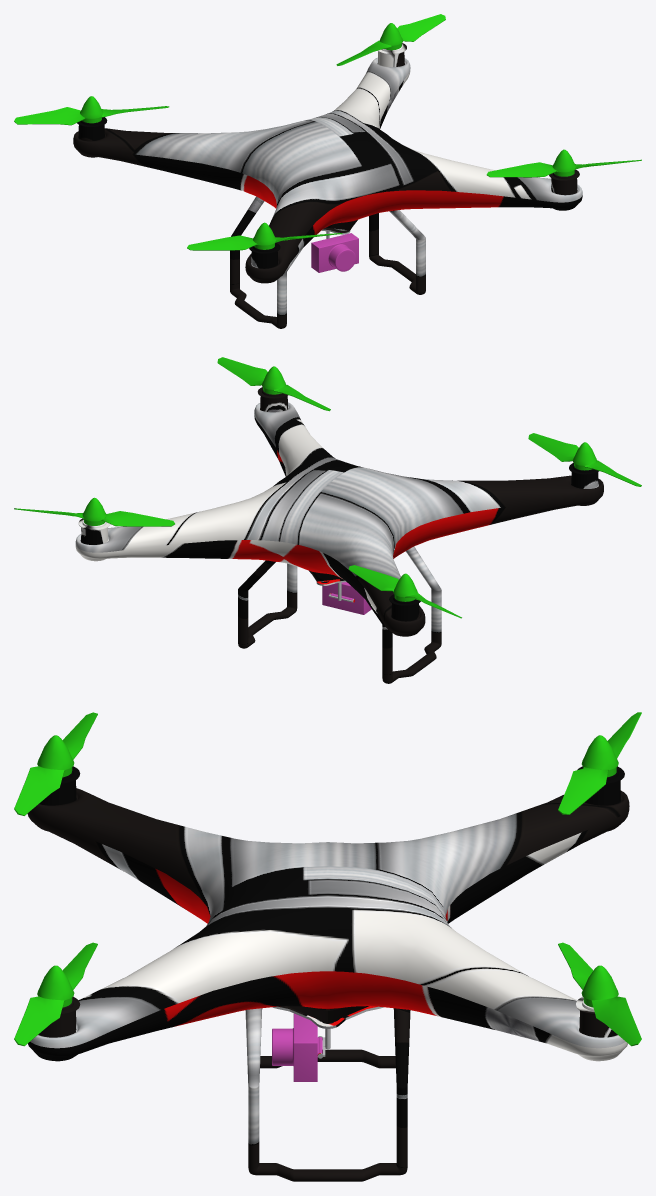
The model's file is phantom_drone.fbx.
3 views of the same model, one above another, from view 1: azimuth 30°, elevation 25°; view 2: azimuth 150°, elevation 25°; view 3: azimuth 270°, elevation 25° (orthographic). The views are drawn at different scales.
Parts seen in each view (by area): view 1: Object011, Object009, Line074, Object008, Object010, Object012; view 2: Object011, Object008, Object012, Object010, Object009, Line074; view 3: Object011, Object008, Object012, Object010, Object009, Line074.
Part boxes in pixels (x1,y1,x2,y2): Object011: (73, 43, 582, 328); Object009: (14, 96, 169, 125); Line074: (311, 233, 358, 272); Object008: (486, 149, 641, 177); Object010: (187, 222, 342, 250); Object012: (336, 14, 445, 65); Object011: (75, 387, 603, 683); Object008: (217, 357, 330, 411); Object012: (14, 497, 174, 526); Object010: (528, 433, 641, 486); Object009: (348, 565, 461, 618); Line074: (322, 582, 371, 614); Object011: (27, 766, 629, 1181); Object008: (14, 942, 97, 1046); Object012: (558, 942, 641, 1046); Object010: (14, 712, 97, 815); Object009: (558, 712, 641, 814); Line074: (272, 1013, 322, 1081).
Size of the model in its own units: 157 by 59.57 by 126.
